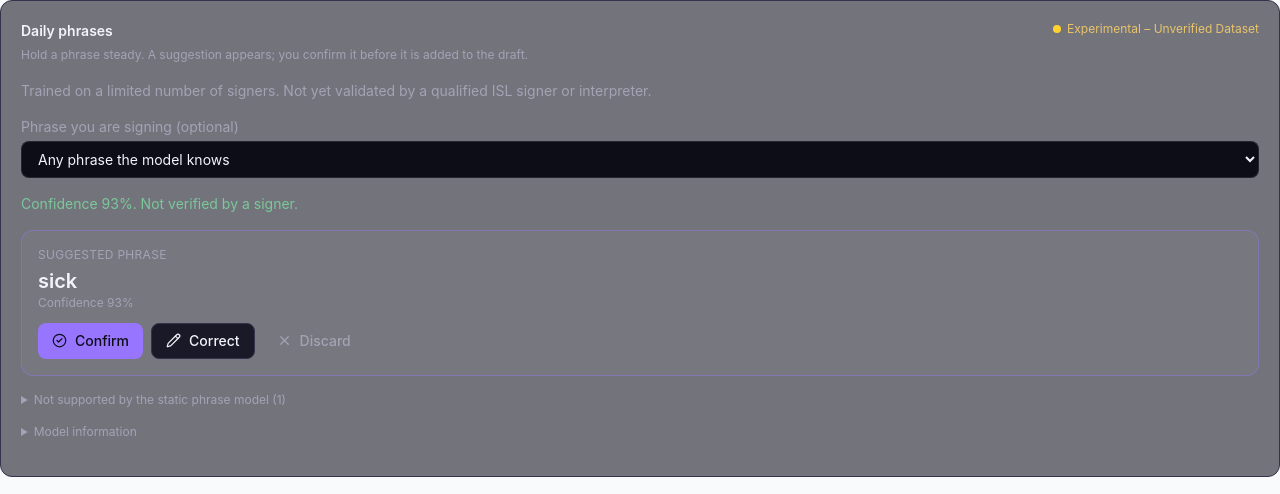
Scenario: PhrasePanel › shows a suggestion after the phrase is held, and adds it to the draft only when confirmed
This screenshot has width=1280, height=494.
Expected: the element "Suggested phrase" shows "sick", [38, 268, 77, 292]
Click the button "Confirm" at (91, 340), box [38, 322, 143, 358]
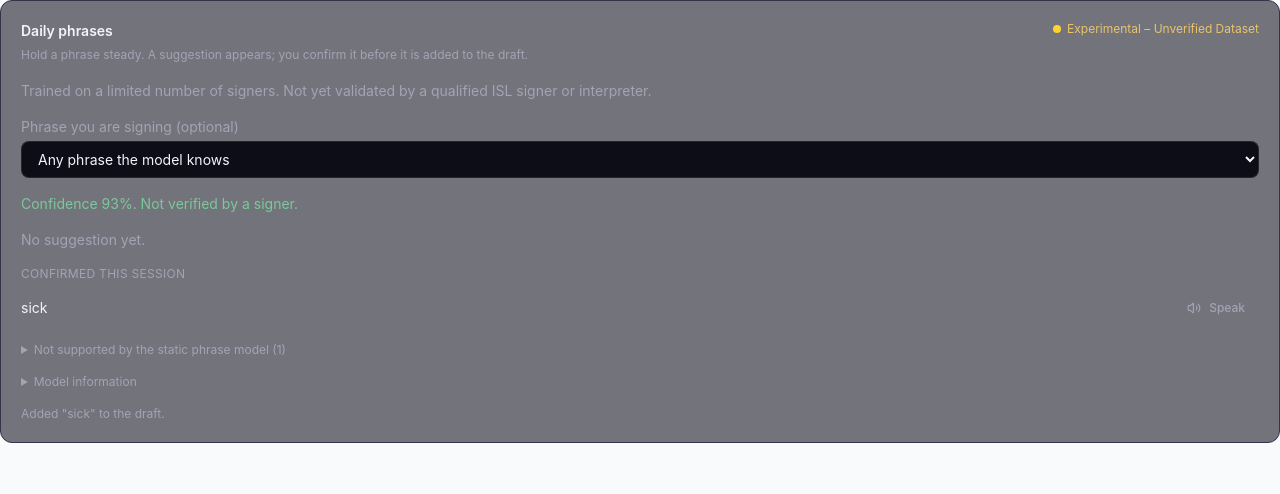
Expected: the text "Suggested phrase" is gone
